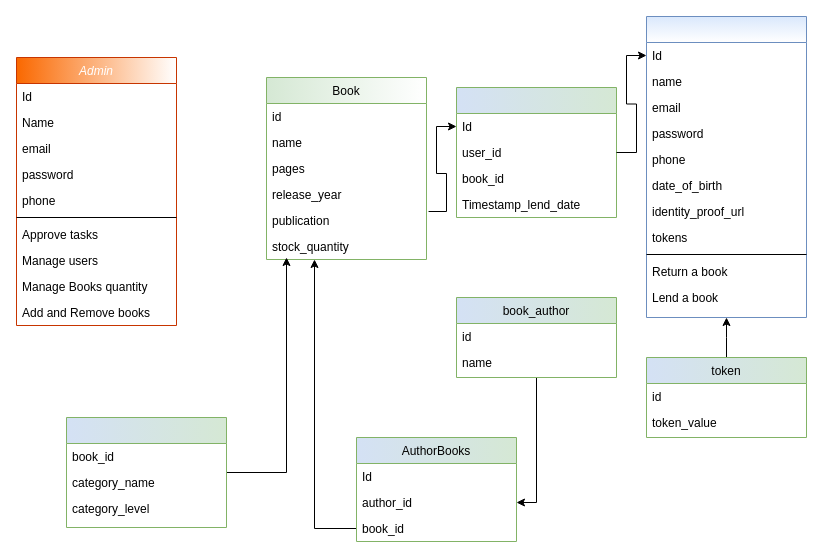
This 823x558 diagram has some shape labels left out. Each missing label, with the box of its shape:
book_genre: (66, 416, 226, 528)
User: (646, 16, 806, 318)
UserBooks: (456, 86, 616, 218)
